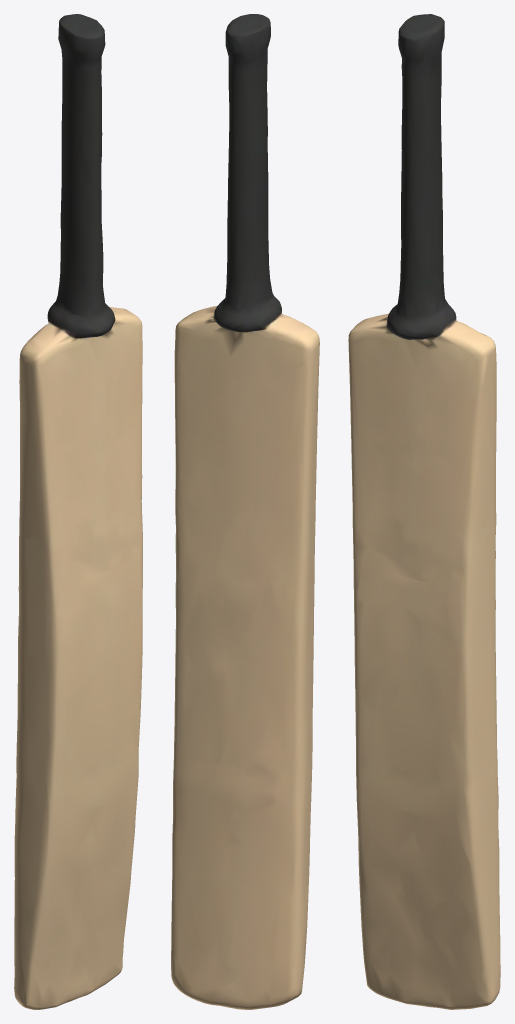
Rendered from bat.glb.
3 views of the same model, side by side, from view 1: azimuth 30°, elevation 25°; view 2: azimuth 150°, elevation 25°; view 3: azimuth 330°, elevation 25° (orthographic). The views are drawn at different scales.
Parts seen in each view (by area): view 1: bat; view 2: bat; view 3: bat.
Boxes of the visible parts, x1=… form: bat: x1=14, y1=14, x2=142, y2=1009; bat: x1=171, y1=14, x2=319, y2=1009; bat: x1=348, y1=14, x2=500, y2=1009.
Bounding box in the file's own units: 0.115 × 0.86 × 0.0759.
1 material, 1 textured.
